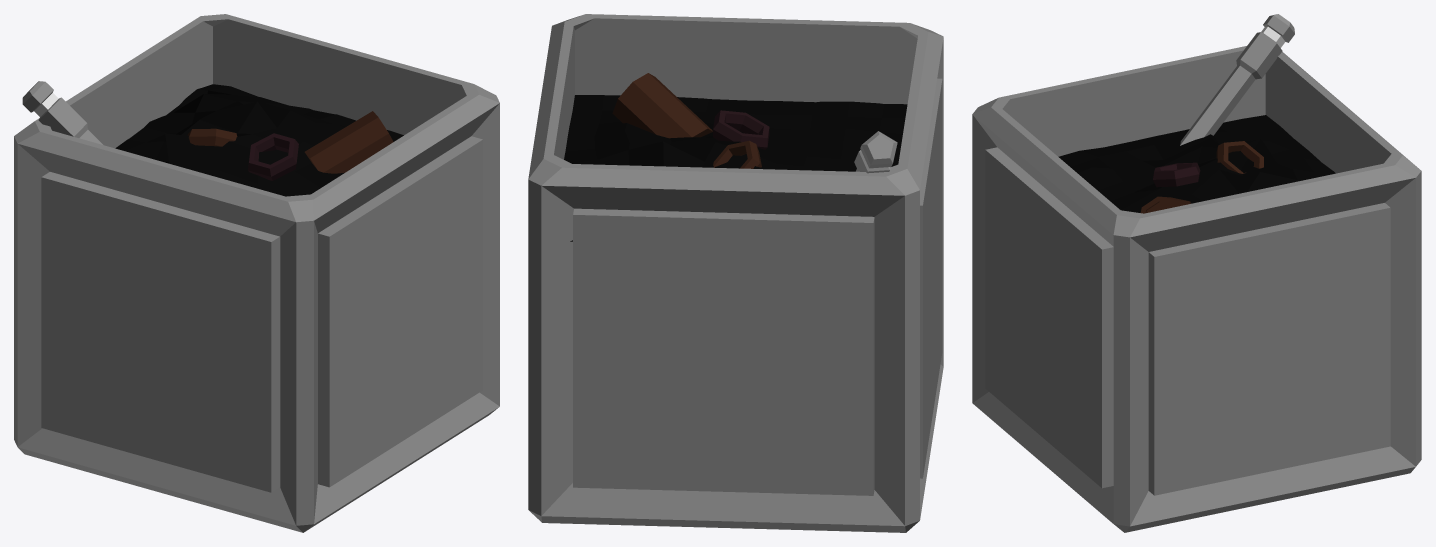
The model's file is Repaircreate_2.fbx.
3 views of the same model, side by side, from view 1: azimuth 30°, elevation 25°; view 2: azimuth 150°, elevation 25°; view 3: azimuth 270°, elevation 25° (orthographic). The views are drawn at different scales.
Visible parts, largest first — view 1: Torus.006; view 2: Torus.006; view 3: Torus.006.
Part boxes in pixels (<box>): Torus.006: <box>14,14,499,532</box>; Torus.006: <box>528,14,943,532</box>; Torus.006: <box>972,14,1421,532</box>.
Bounding box in the file's own units: 366 × 313 × 366.
